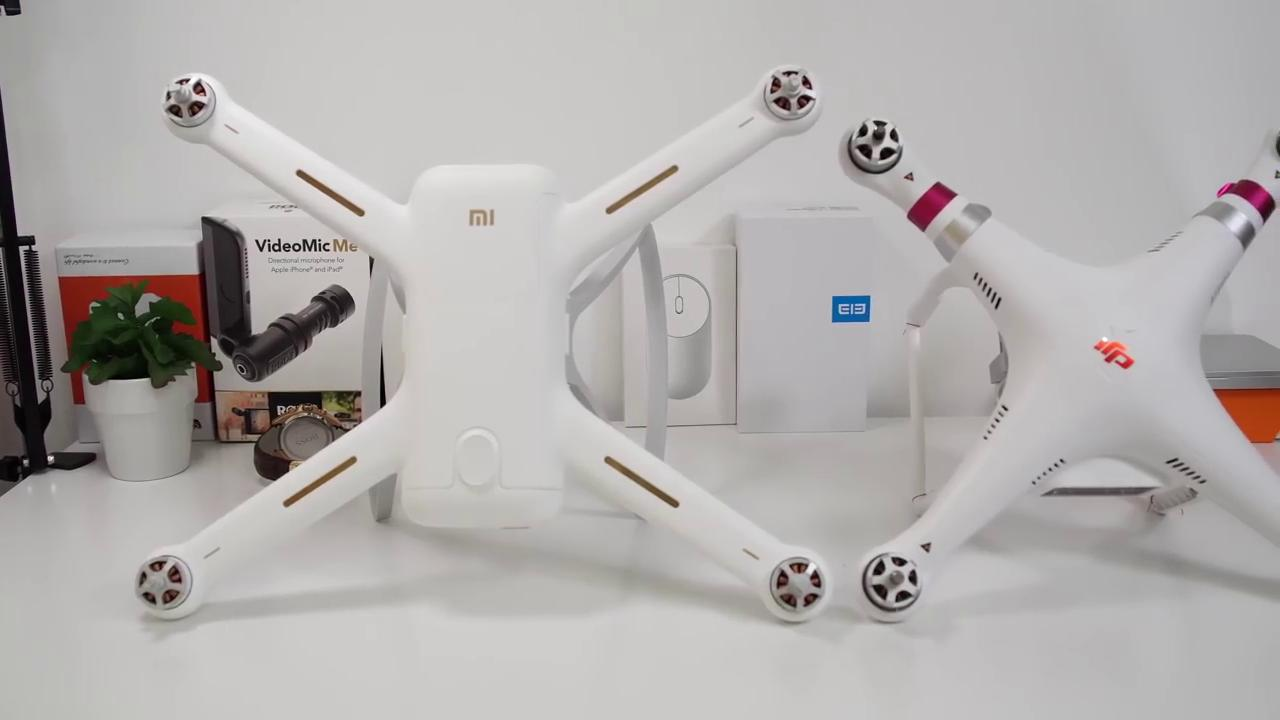drone: (121, 42, 834, 620), (827, 90, 1280, 633)
